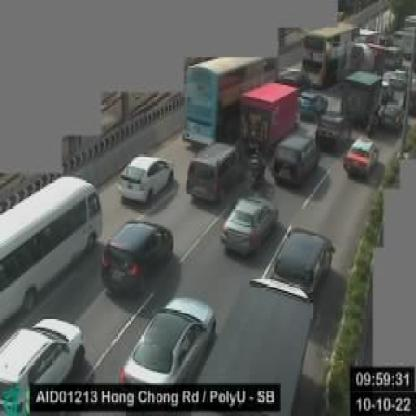Bus: (3, 175, 103, 332), (182, 53, 268, 147), (304, 15, 364, 87)
Car: (115, 294, 216, 405), (0, 317, 81, 415), (100, 218, 174, 298), (269, 228, 334, 301), (219, 194, 276, 258), (186, 141, 239, 205), (117, 152, 176, 205), (272, 133, 320, 187), (342, 135, 378, 179), (317, 109, 347, 149), (297, 87, 329, 119)
Truck: (190, 276, 316, 416), (239, 81, 299, 156), (340, 68, 379, 132), (376, 71, 412, 131)
